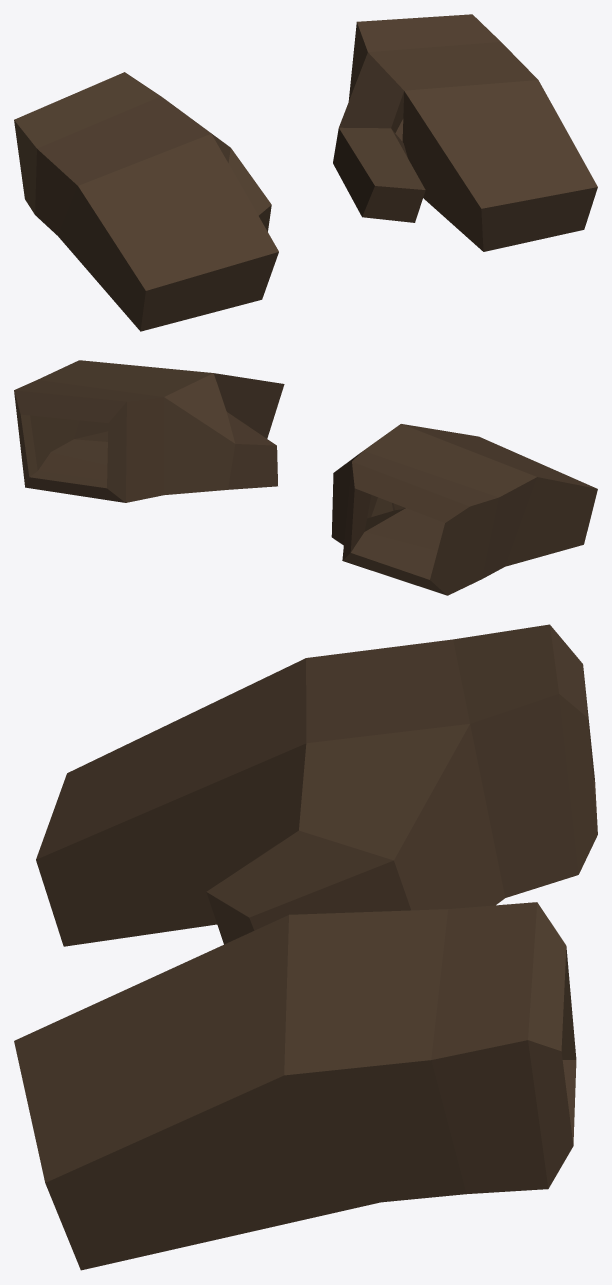
The model's file is Gloves.fbx.
The picture shows the model from 3 angles, top to bottom: view 1: azimuth 30°, elevation 25°; view 2: azimuth 150°, elevation 25°; view 3: azimuth 270°, elevation 25°; orthographic projection. The views are drawn at different scales.
Parts seen in each view (by area): view 1: Gloves; view 2: Gloves; view 3: Gloves.
Part boxes in pixels (left/top/right/bottom): Gloves: left=14, top=14, right=597, bottom=331; Gloves: left=14, top=360, right=597, bottom=595; Gloves: left=14, top=624, right=597, bottom=1270.
Bounding box in the file's own units: 22.65 × 6.87 × 13.33.
